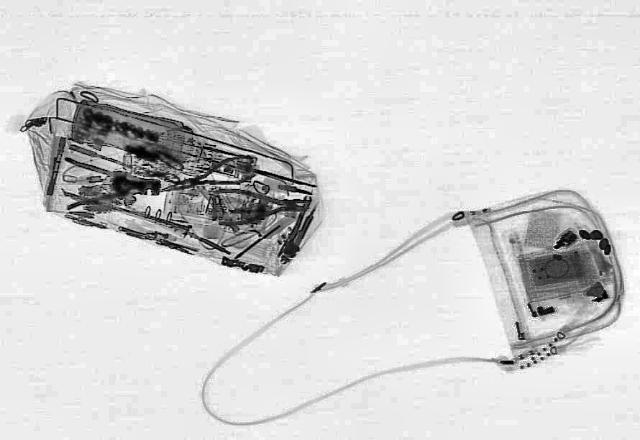Pliers: (152, 152, 264, 202), (59, 156, 161, 210), (215, 188, 312, 224)
